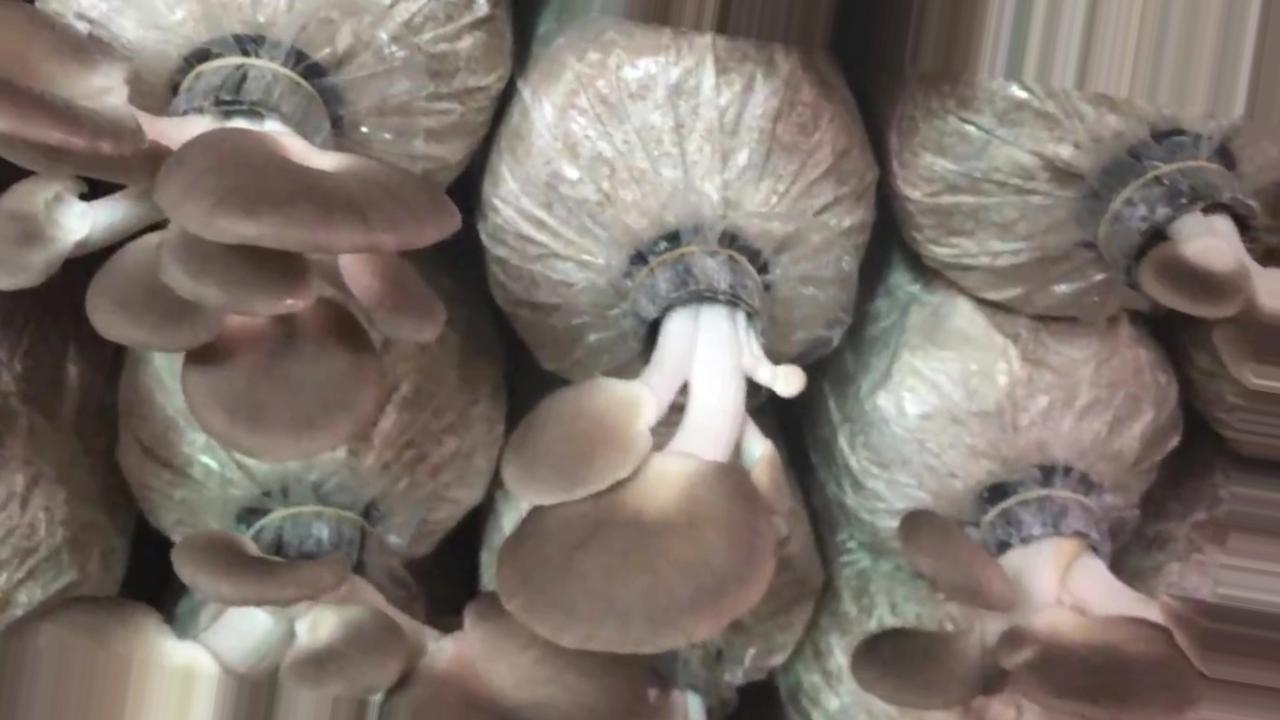nam: (1, 1, 475, 469), (2, 505, 695, 720), (489, 225, 816, 659), (849, 495, 1280, 719), (1105, 148, 1280, 391)
